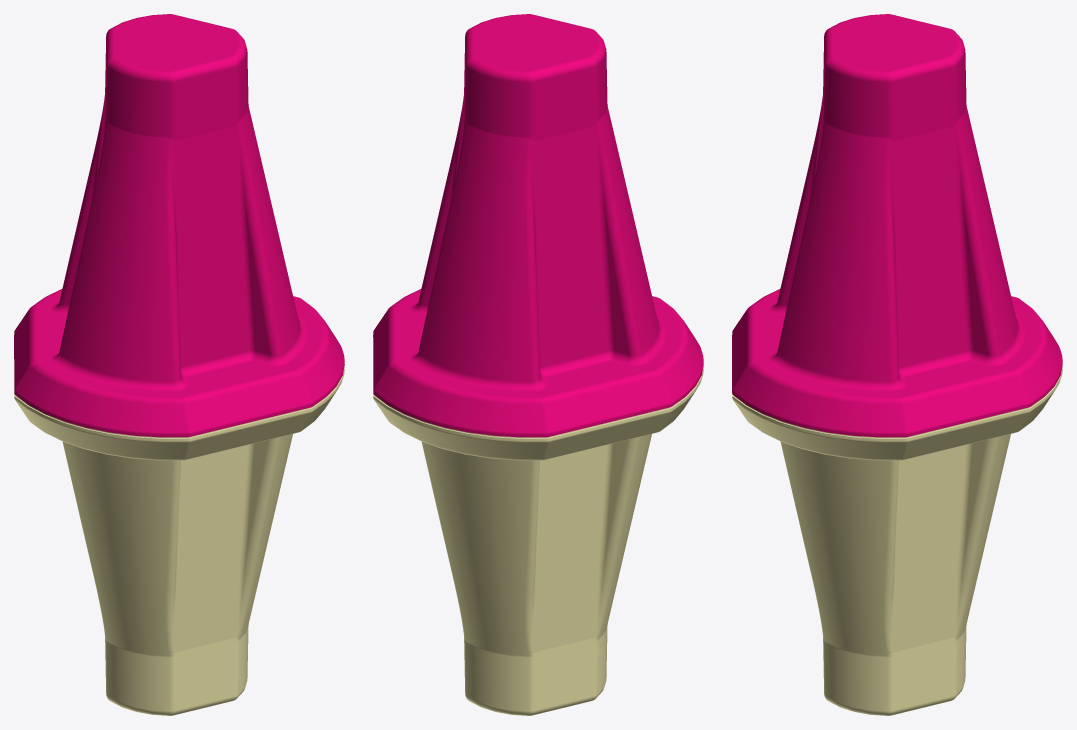
Rendered from V5RC-Override-H2H-_-RedYellowPin.glb.
3 renders of one model, left to right at view 1: azimuth 30°, elevation 25°; view 2: azimuth 150°, elevation 25°; view 3: azimuth 270°, elevation 25°, orthographic.
Parts seen in each view (by area): view 1: V5RC-Override-H2H-_-RedYellowPin; view 2: V5RC-Override-H2H-_-RedYellowPin; view 3: V5RC-Override-H2H-_-RedYellowPin.
Part boxes in pixels (<box>): V5RC-Override-H2H-_-RedYellowPin: <box>14,14,344,715</box>; V5RC-Override-H2H-_-RedYellowPin: <box>373,14,703,715</box>; V5RC-Override-H2H-_-RedYellowPin: <box>732,14,1062,715</box>.
Bounding box in the file's own units: 0.0801 × 0.165 × 0.0768.
